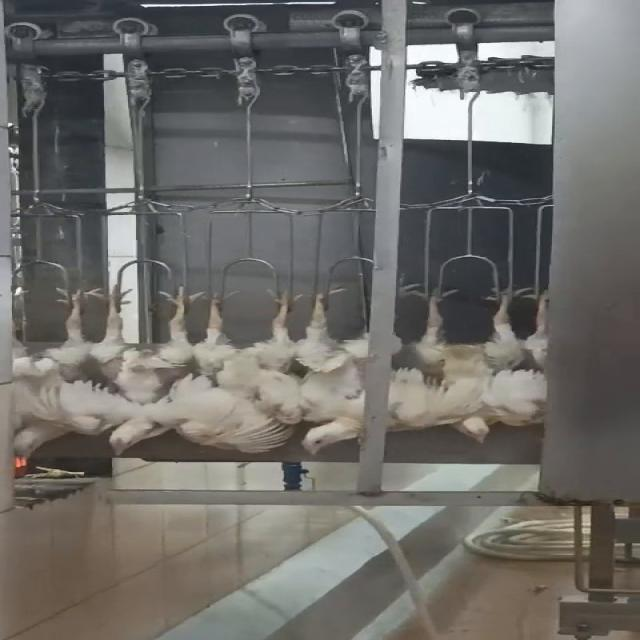chicken: (7, 279, 117, 470), (391, 278, 515, 444), (92, 284, 208, 460), (176, 286, 283, 456), (283, 284, 373, 456), (519, 280, 555, 429)
